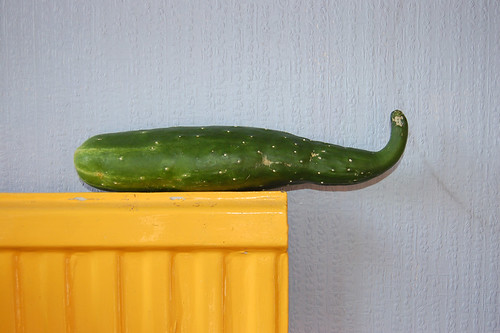cucumber: (76, 109, 409, 192)
